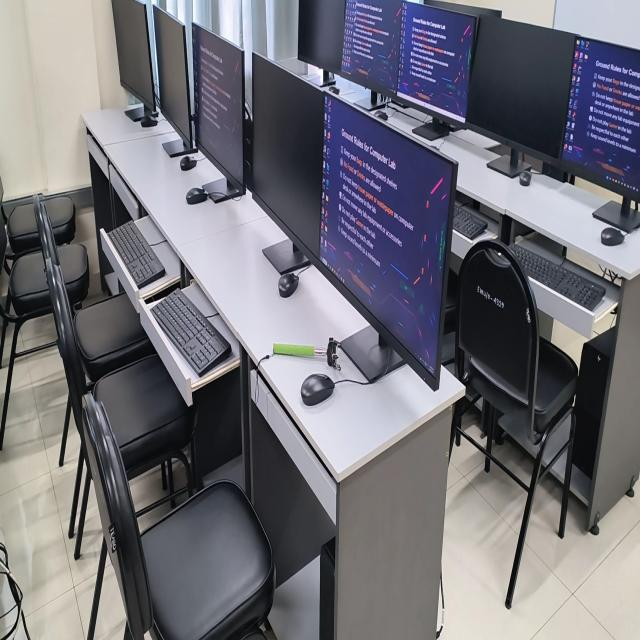Chair: (40, 220, 196, 559), (82, 393, 275, 639), (453, 241, 577, 607), (0, 243, 54, 440), (74, 294, 156, 382), (59, 244, 89, 309), (7, 197, 39, 254), (40, 195, 75, 244)
Cpu: (572, 328, 614, 480)
Keyboard: (151, 290, 231, 376), (511, 244, 605, 309), (109, 221, 164, 289), (453, 204, 488, 240)
Monitor: (319, 94, 453, 379), (463, 15, 574, 165), (252, 55, 324, 259), (562, 37, 640, 199), (192, 24, 245, 202), (397, 3, 475, 122), (512, 245, 605, 310), (341, 0, 405, 92), (154, 8, 193, 149), (112, 0, 156, 113), (298, 0, 345, 72), (141, 113, 158, 127)
Mouse: (301, 373, 334, 406), (279, 273, 299, 297), (601, 228, 624, 246), (186, 188, 207, 204), (180, 155, 197, 171), (141, 114, 158, 127), (519, 170, 531, 186), (191, 187, 199, 191)
